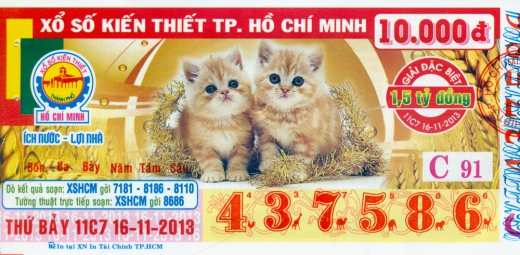serial_zone: (202, 190, 498, 242)
